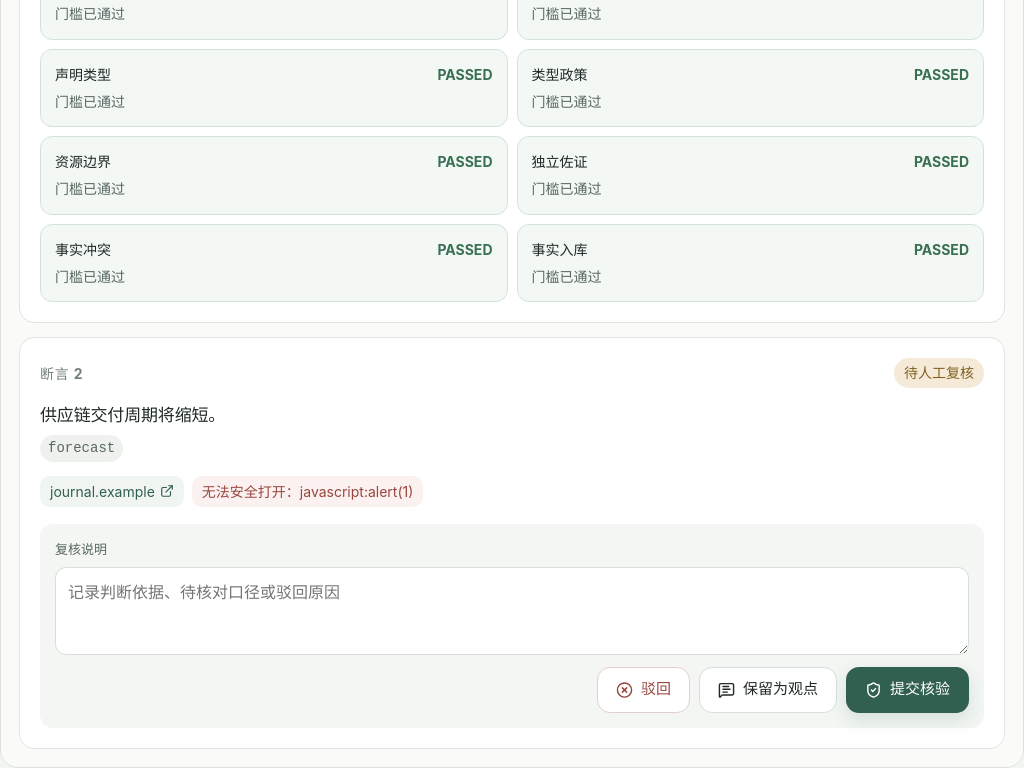
Test: critical workbench workflows › keeps the submitted state when verification fails after a successful review
This screenshot has width=1024, height=768.
(page scrolled)
Click the button "提交核验".
click(908, 690)  # box [846,666,969,712]
(page scrolled)
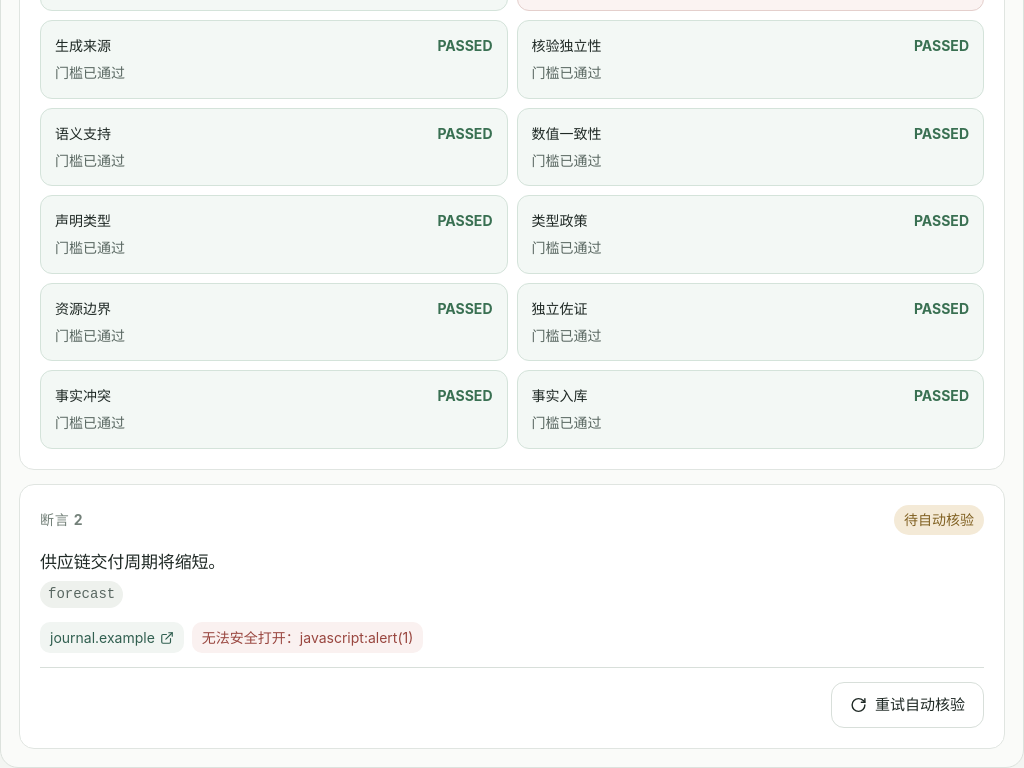
Expected: the button "提交核验" is gone
Expected: the button "驳回" is gone
Expected: the button "保留为观点" is gone
